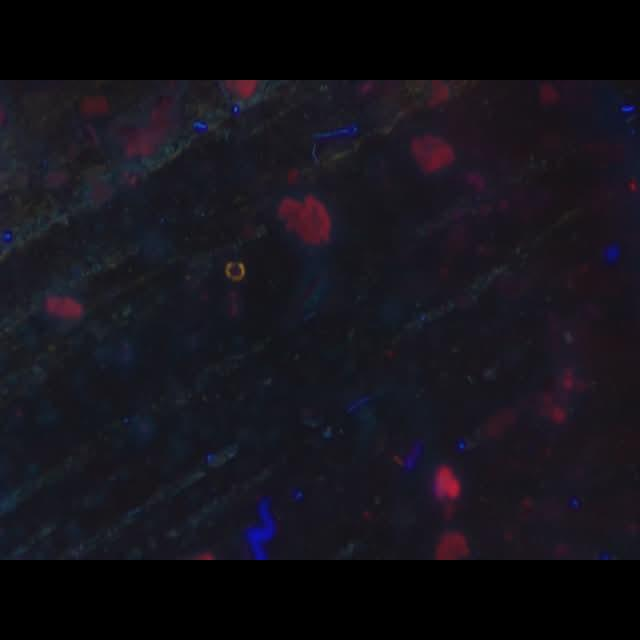Fragment: (278, 194, 332, 246)
